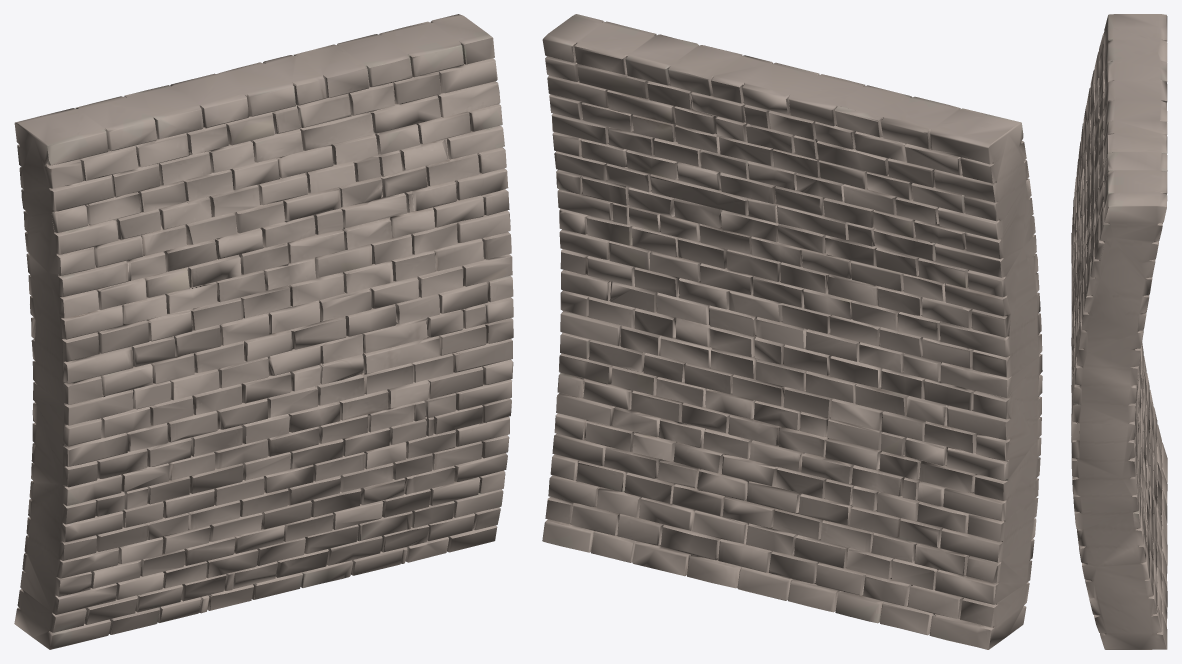
File: decor_brick_wall_panel_idle.glb
3 views of the same model, side by side, from view 1: azimuth 30°, elevation 25°; view 2: azimuth 150°, elevation 25°; view 3: azimuth 270°, elevation 25° (orthographic). The views are drawn at different scales.
Parts seen in each view (by area): view 1: tripo_node_b3135846-d876-42e7-99f9-e8cfc52ff2d4; view 2: tripo_node_b3135846-d876-42e7-99f9-e8cfc52ff2d4; view 3: tripo_node_b3135846-d876-42e7-99f9-e8cfc52ff2d4.
Part boxes in pixels (<box>): tripo_node_b3135846-d876-42e7-99f9-e8cfc52ff2d4: <box>14,14,513,649</box>; tripo_node_b3135846-d876-42e7-99f9-e8cfc52ff2d4: <box>542,14,1042,649</box>; tripo_node_b3135846-d876-42e7-99f9-e8cfc52ff2d4: <box>1071,14,1167,649</box>.
Bounding box in the file's own units: 1.39 × 1.5 × 0.2942.
1 material, 1 textured.
